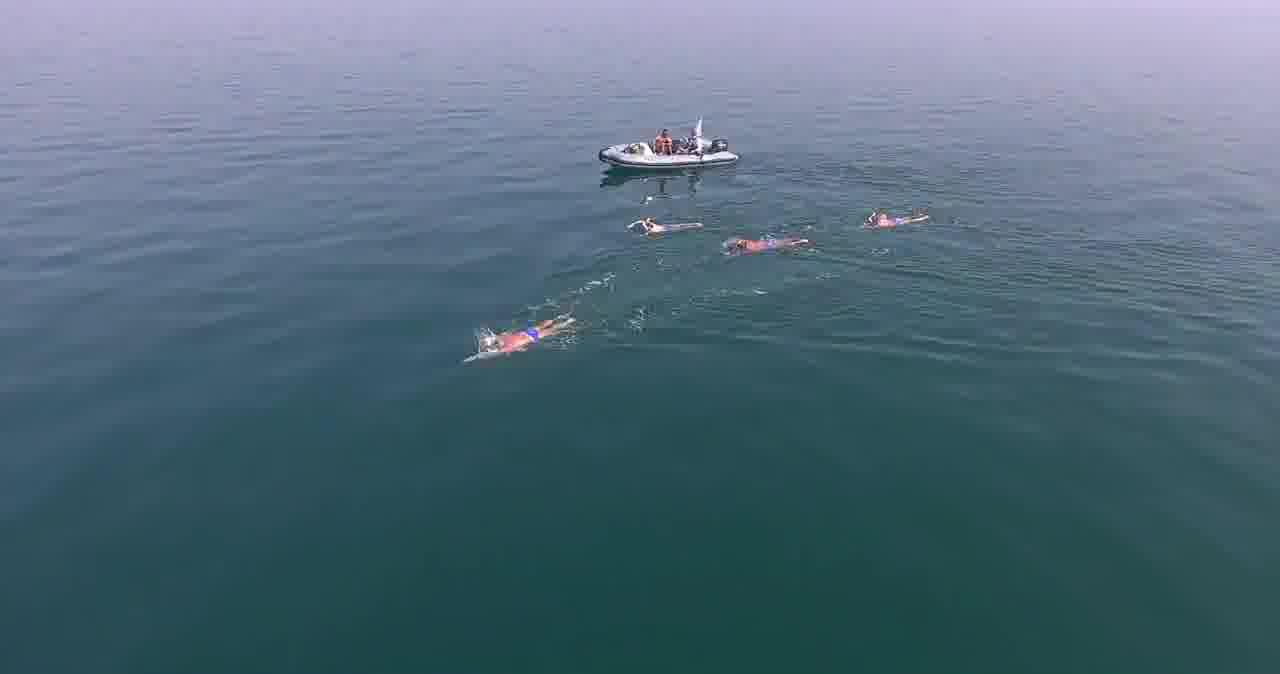human: (463, 323, 571, 354), (851, 204, 924, 235), (732, 226, 790, 265), (622, 224, 682, 238)
